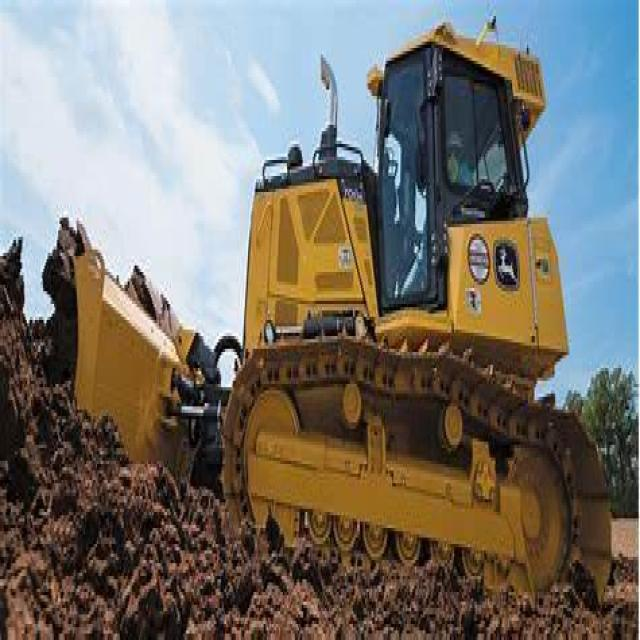buldozerpayloadergrader: (43, 26, 619, 634)
